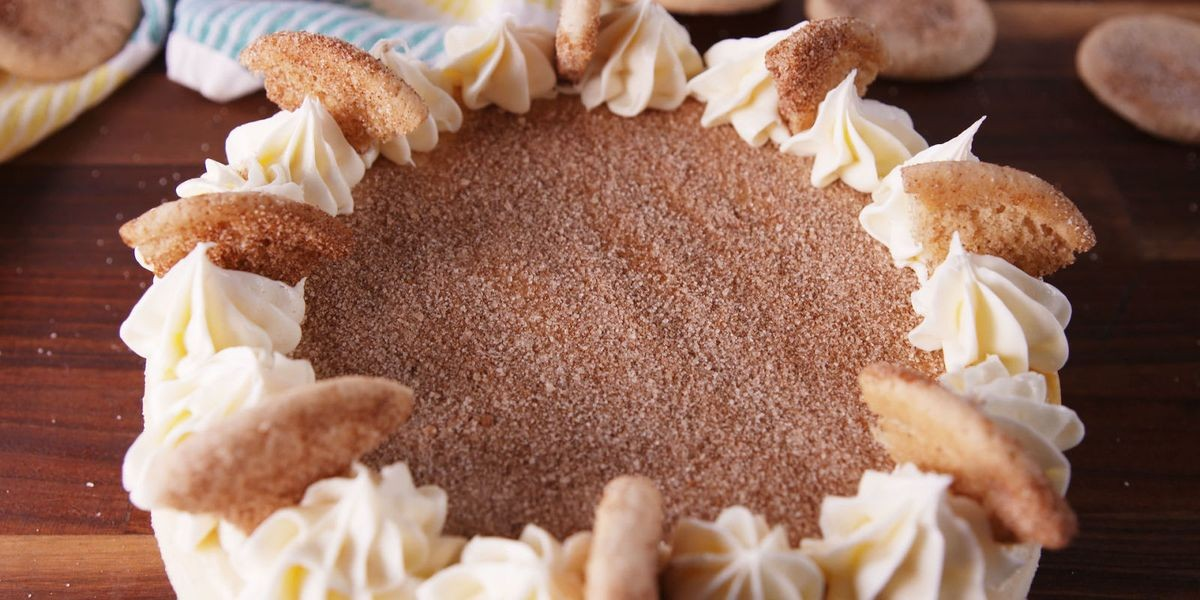cheese: (140, 261, 322, 426)
